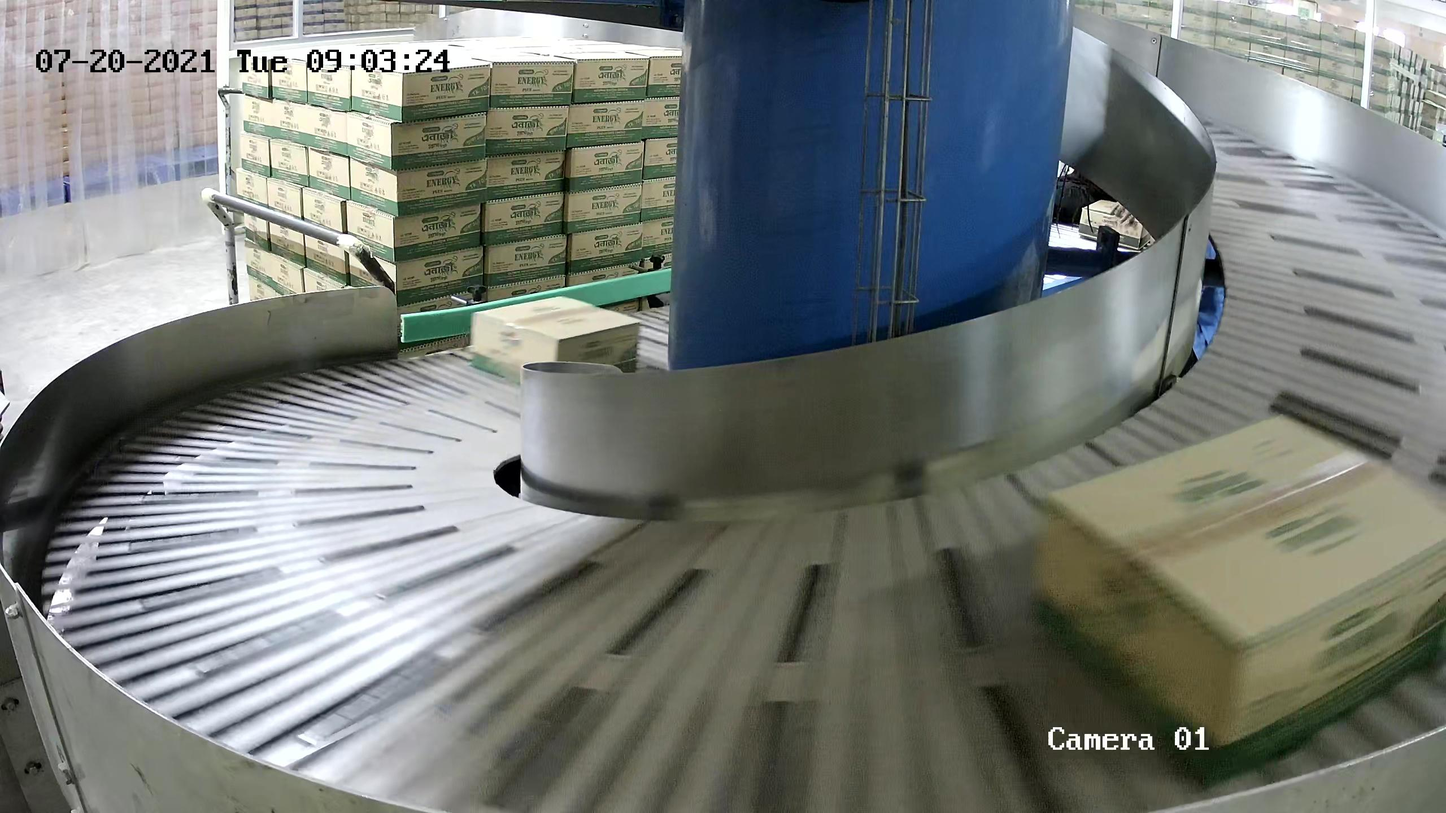Box: (1028, 413, 1446, 794), (470, 295, 641, 393)
